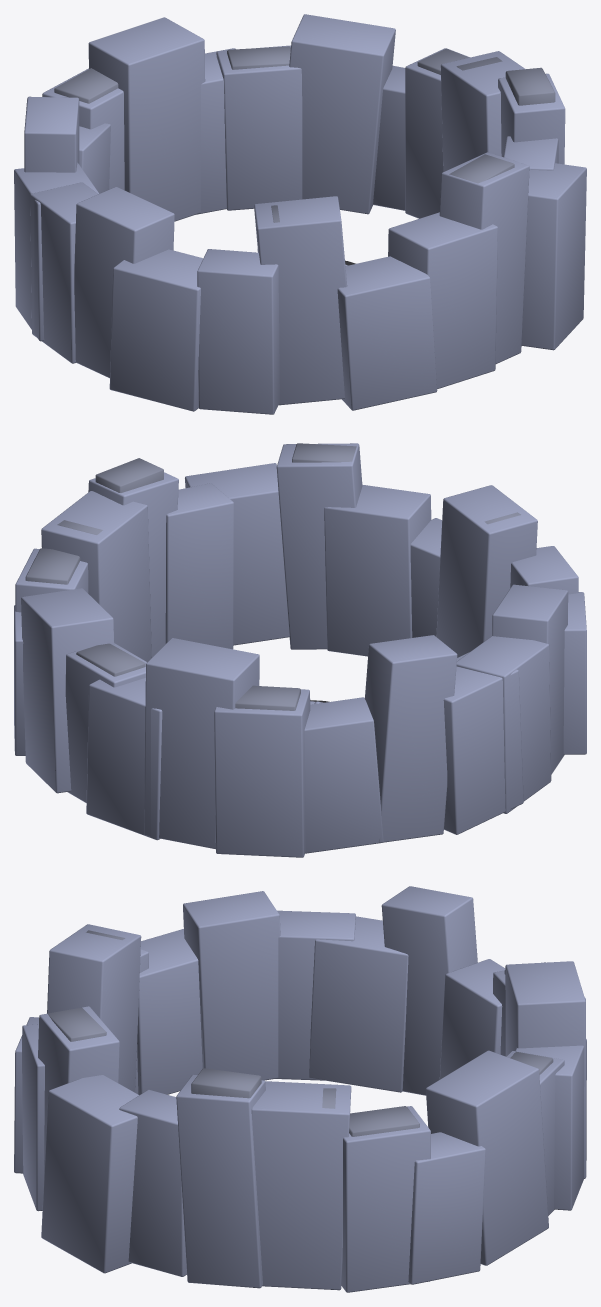
Rendered from gale_serpent.glb.
3 views of the same model, one above another, from view 1: azimuth 30°, elevation 25°; view 2: azimuth 150°, elevation 25°; view 3: azimuth 270°, elevation 25° (orthographic). The views are drawn at different scales.
Parts seen in each view (by area): view 1: GaleSerpentGround; view 2: GaleSerpentGround; view 3: GaleSerpentGround.
Part boxes in pixels (x1,y1,x2,y2): GaleSerpentGround: [14, 14, 586, 414]; GaleSerpentGround: [14, 443, 586, 857]; GaleSerpentGround: [14, 886, 586, 1292].
Bounding box in the file's own units: 39.61 × 15.7 × 39.88.
1 material, 1 textured.
